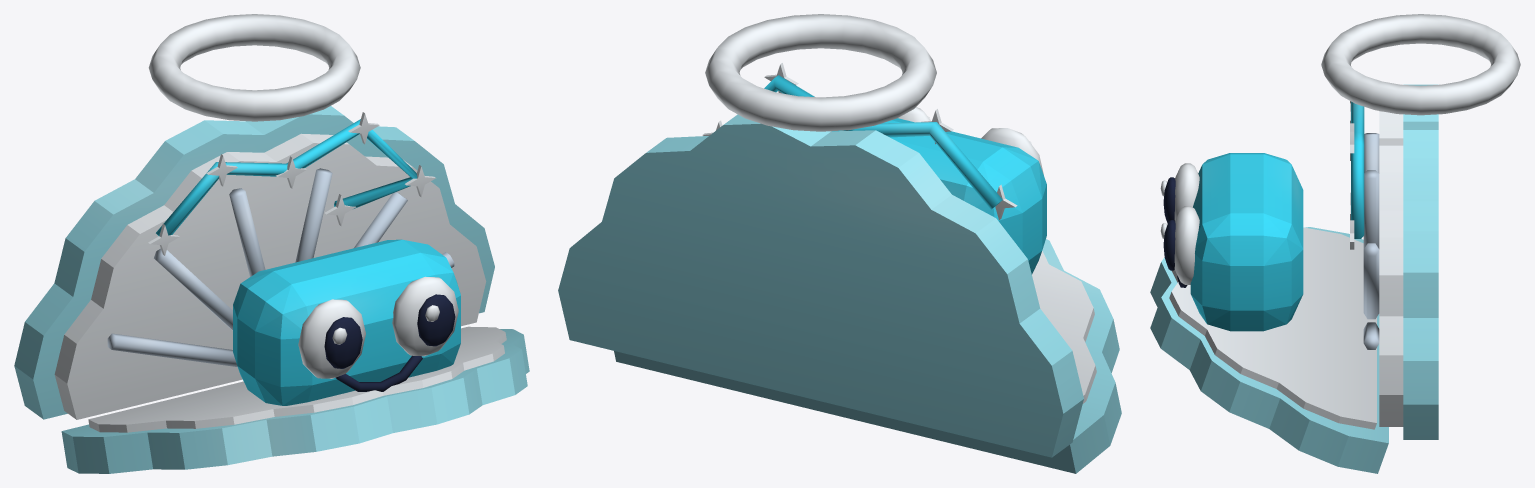
The model's file is ConstellationClam.fbx.
3 renders of one model, left to right at view 1: azimuth 30°, elevation 25°; view 2: azimuth 150°, elevation 25°; view 3: azimuth 270°, elevation 25°, orthographic. The views are drawn at different scales.
Parts seen in each view (by area): view 1: ConstellationClam; view 2: ConstellationClam; view 3: ConstellationClam.
Boxes of the visible parts, x1,y1,x2,y2 form: ConstellationClam: (14,14,529,473); ConstellationClam: (558,14,1121,473); ConstellationClam: (1150,14,1520,473).
Bounding box in the file's own units: 2.9 × 2.07 × 2.14.
1 material, 1 textured.
